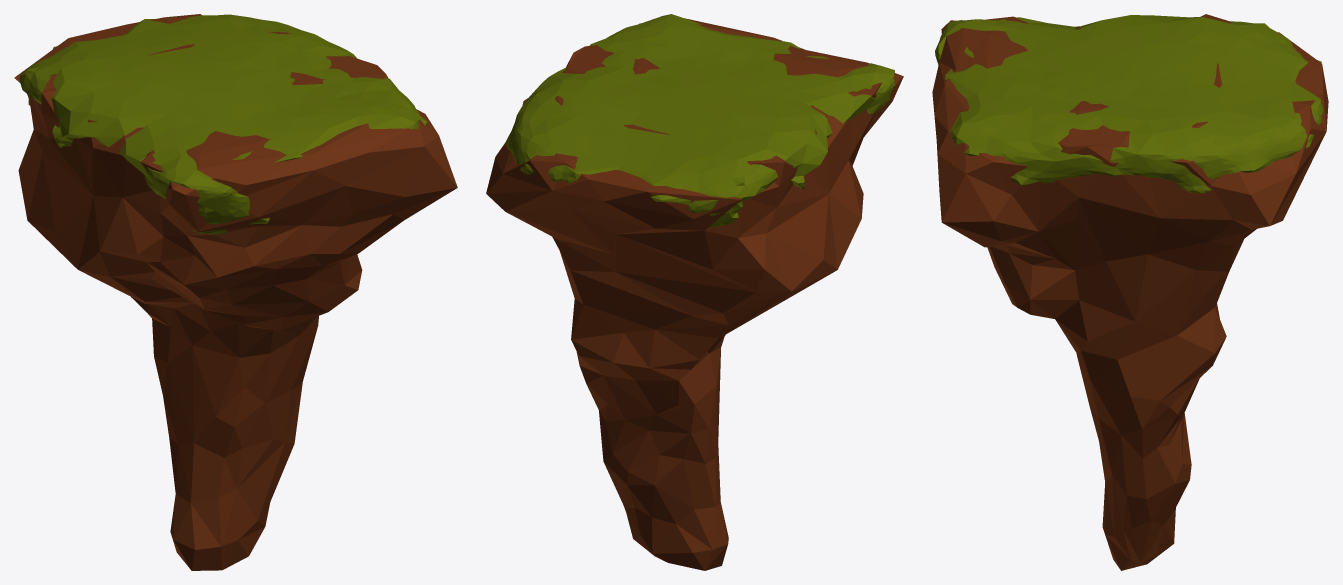
The model's file is Due_Isola4.fbx.
The picture shows the model from 3 angles, left to right: view 1: azimuth 30°, elevation 25°; view 2: azimuth 150°, elevation 25°; view 3: azimuth 270°, elevation 25°; orthographic projection. The views are drawn at different scales.
Visible parts, largest first — view 1: Plane.034, Plane.035; view 2: Plane.034, Plane.035; view 3: Plane.034, Plane.035.
Boxes of the visible parts, x1,y1,x2,y2 form: Plane.034: [14, 14, 457, 570]; Plane.035: [19, 14, 427, 234]; Plane.034: [486, 18, 903, 570]; Plane.035: [505, 14, 894, 226]; Plane.034: [932, 14, 1328, 570]; Plane.035: [935, 15, 1323, 193].
Size of the model in its own units: 99.01 by 154 by 113.
